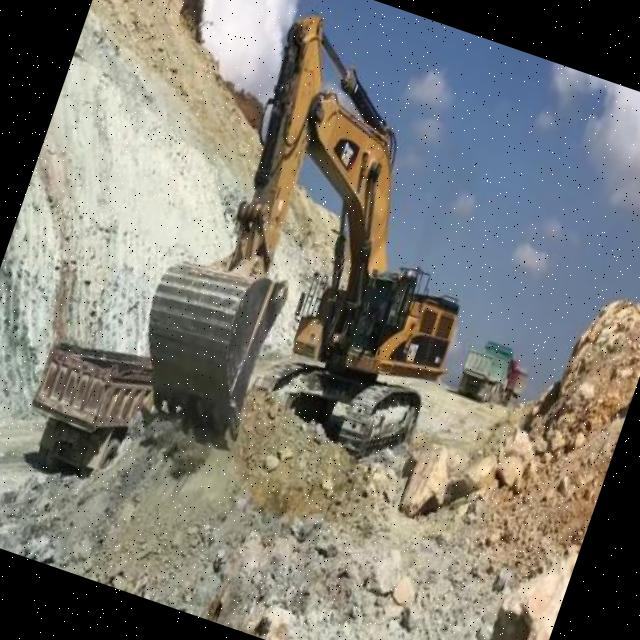Dump Truck: (11, 328, 160, 491), (452, 332, 522, 409)
Excavator: (108, 0, 535, 521)
